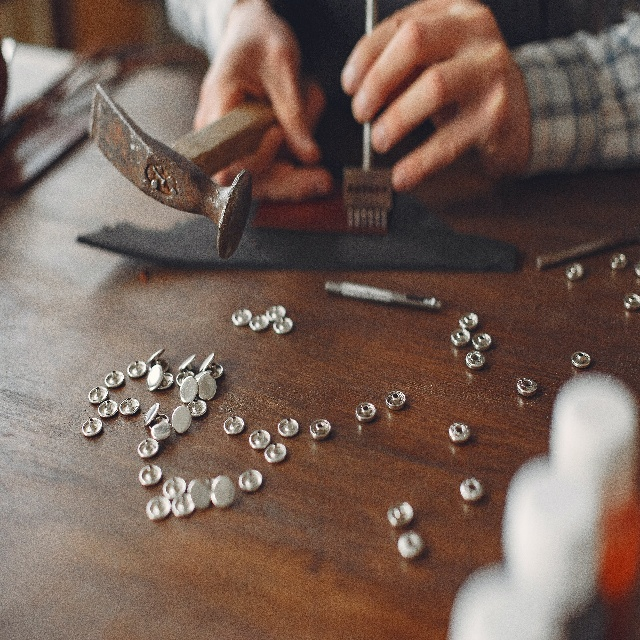Sin_guantes: (340, 0, 533, 193), (191, 0, 334, 200)
